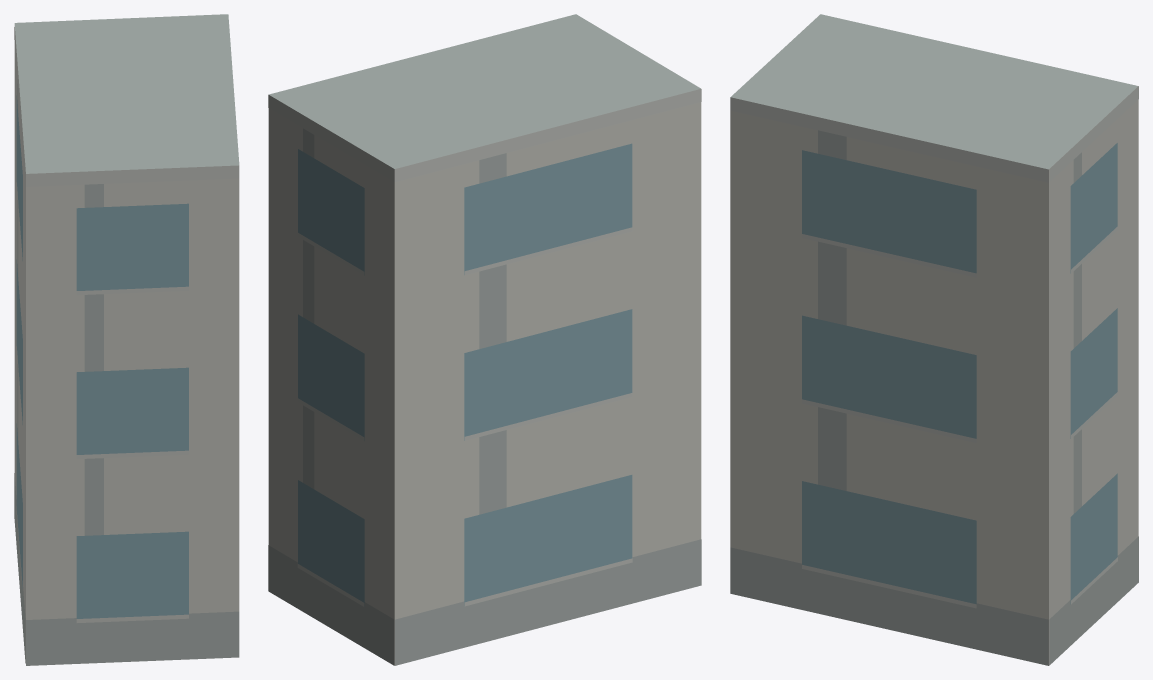
The model's file is survey-upis-33004278.glb.
3 renders of one model, left to right at view 1: azimuth 30°, elevation 25°; view 2: azimuth 150°, elevation 25°; view 3: azimuth 270°, elevation 25°, orthographic.
Parts seen in each view (by area): view 1: survey-upis-33004278.tmp; view 2: survey-upis-33004278.tmp; view 3: survey-upis-33004278.tmp.
Boxes of the visible parts, left/top/right/bottom form: survey-upis-33004278.tmp: left=14, top=14, right=239, bottom=665; survey-upis-33004278.tmp: left=268, top=14, right=701, bottom=665; survey-upis-33004278.tmp: left=730, top=14, right=1138, bottom=665.
Bounding box in the file's own units: 6.15 × 9.15 × 6.83.
